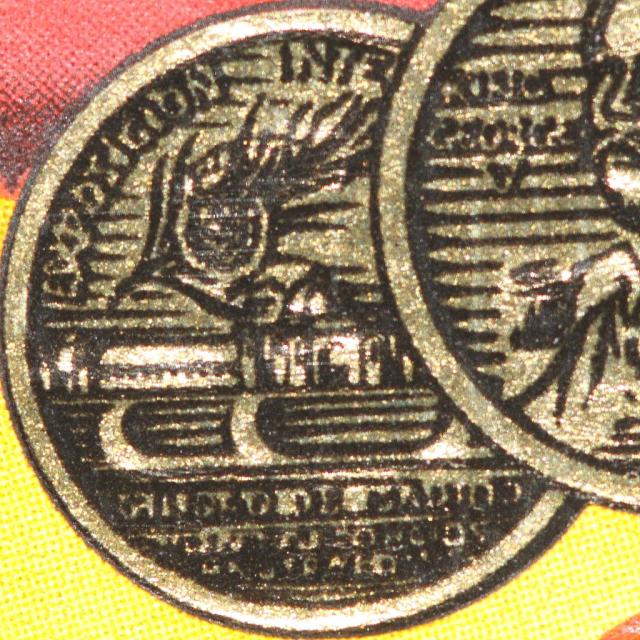Coin: (0, 3, 582, 637), (368, 0, 640, 508)
